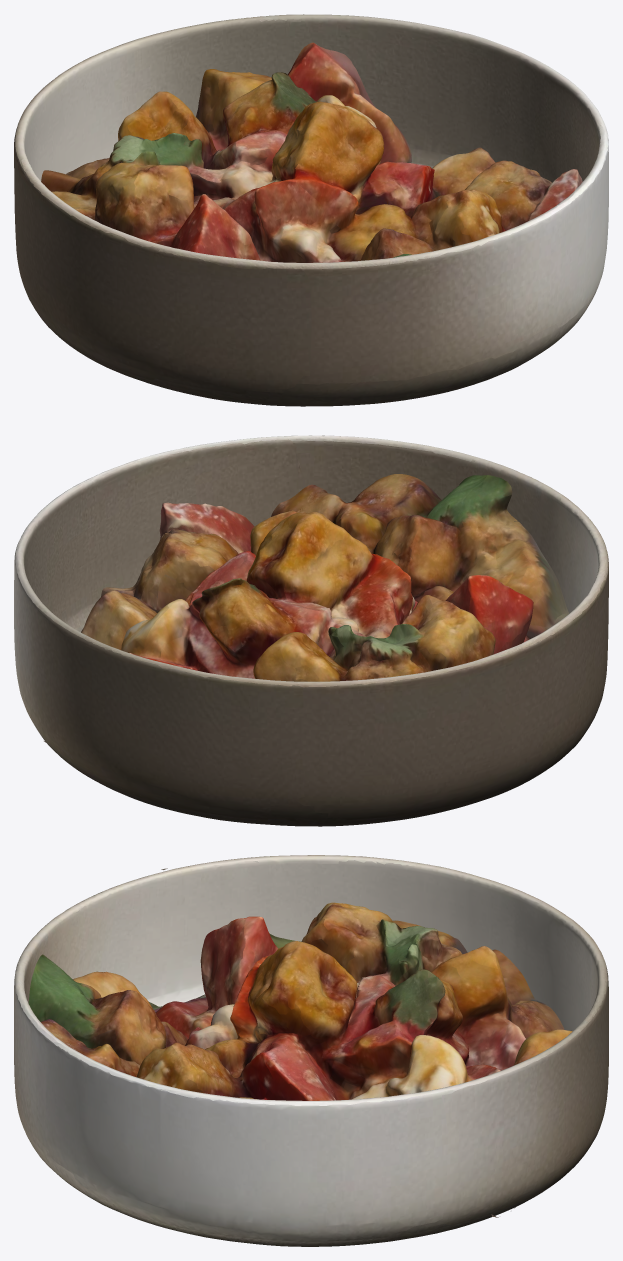
File: crispy.eghplant001.glb
The picture shows the model from 3 angles, top to bottom: view 1: azimuth 30°, elevation 25°; view 2: azimuth 150°, elevation 25°; view 3: azimuth 270°, elevation 25°; orthographic projection.
Parts seen in each view (by area): view 1: /Root/Scenes/Scene/Object_45/Object_47/Object_48/Submesh_0, /Root/Scenes/Scene/Object_45/Object_46/Submesh_0; view 2: /Root/Scenes/Scene/Object_45/Object_47/Object_48/Submesh_0, /Root/Scenes/Scene/Object_45/Object_46/Submesh_0; view 3: /Root/Scenes/Scene/Object_45/Object_47/Object_48/Submesh_0, /Root/Scenes/Scene/Object_45/Object_46/Submesh_0.
Part boxes in pixels (x1,y1,x2,y2): /Root/Scenes/Scene/Object_45/Object_47/Object_48/Submesh_0: (14,14,608,406); /Root/Scenes/Scene/Object_45/Object_46/Submesh_0: (41,42,582,262); /Root/Scenes/Scene/Object_45/Object_47/Object_48/Submesh_0: (14,435,608,826); /Root/Scenes/Scene/Object_45/Object_46/Submesh_0: (44,474,577,742); /Root/Scenes/Scene/Object_45/Object_47/Object_48/Submesh_0: (14,855,608,1246); /Root/Scenes/Scene/Object_45/Object_46/Submesh_0: (28,868,572,1217).
Size of the model in its own units: 0.1699 by 0.0636 by 0.1698.
Materials: 2 (2 with a texture image).
